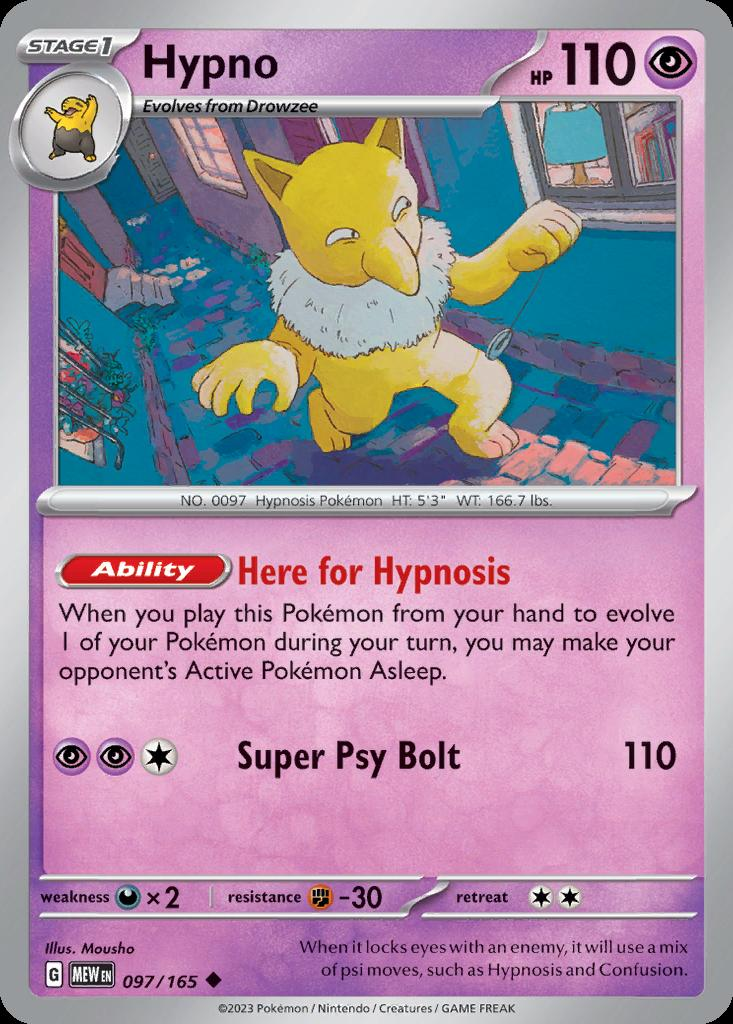card: (3, 4, 733, 1021)
hp: (514, 26, 703, 93)
name: (127, 34, 293, 89)
set num: (120, 959, 207, 997)
set symbol: (69, 959, 116, 993)
